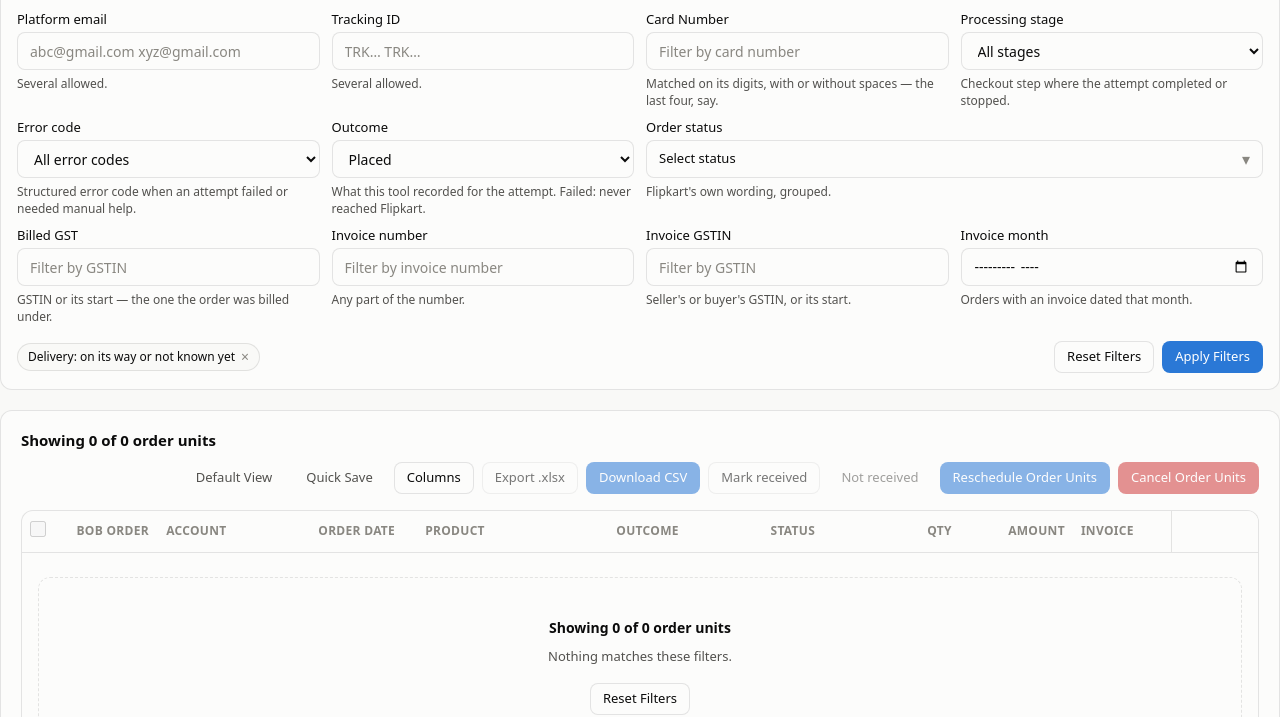
Test: Order Units opened from the To be delivered card › takes the whole link off the address when the filters are reset
(page scrolled)
Note: The filter bar's (the empty table offers the same reset).
Click the button "Reset Filters" in the row of "on its way or not known yet": (1104, 357) [1054,341,1154,373]
(page scrolled)
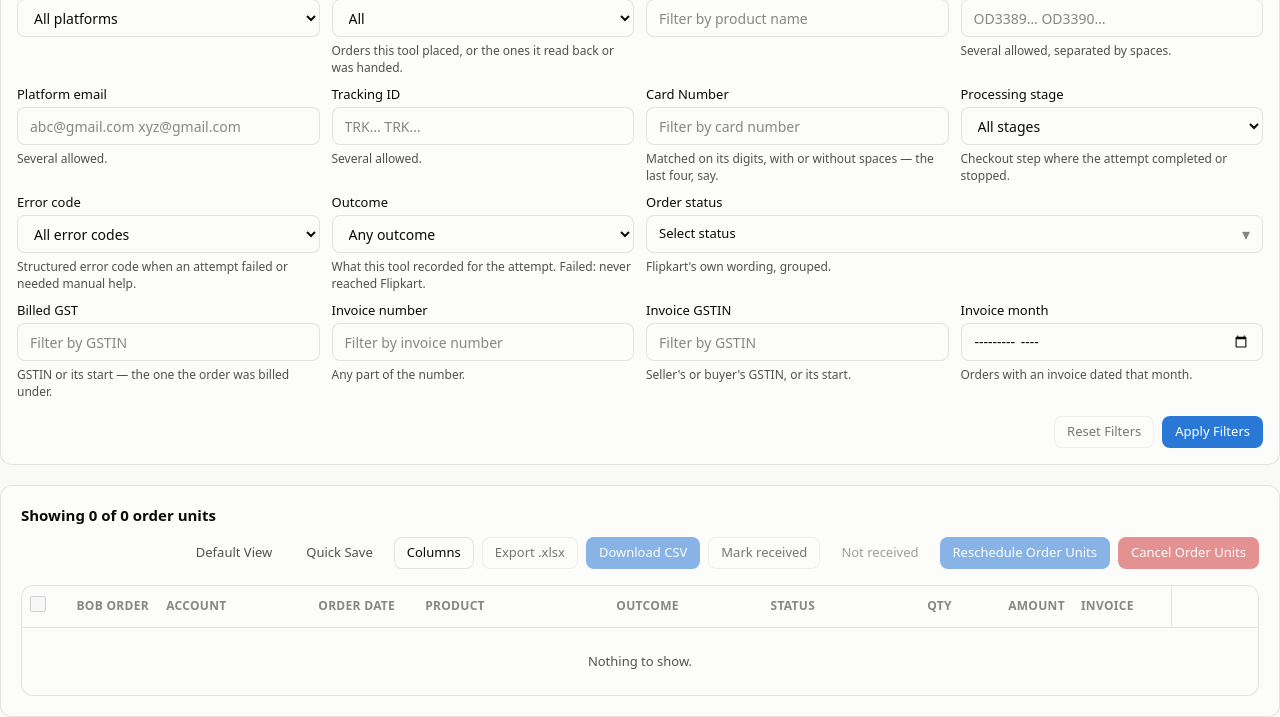
Expected: the text "Delivery:" is gone
